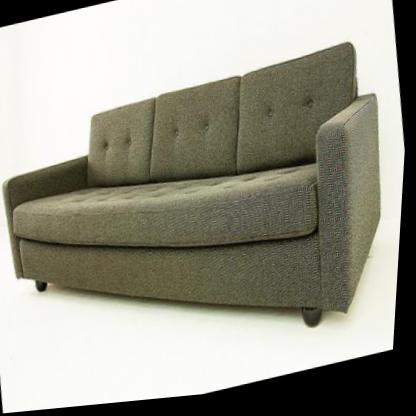Sofa: (0, 38, 413, 405)
